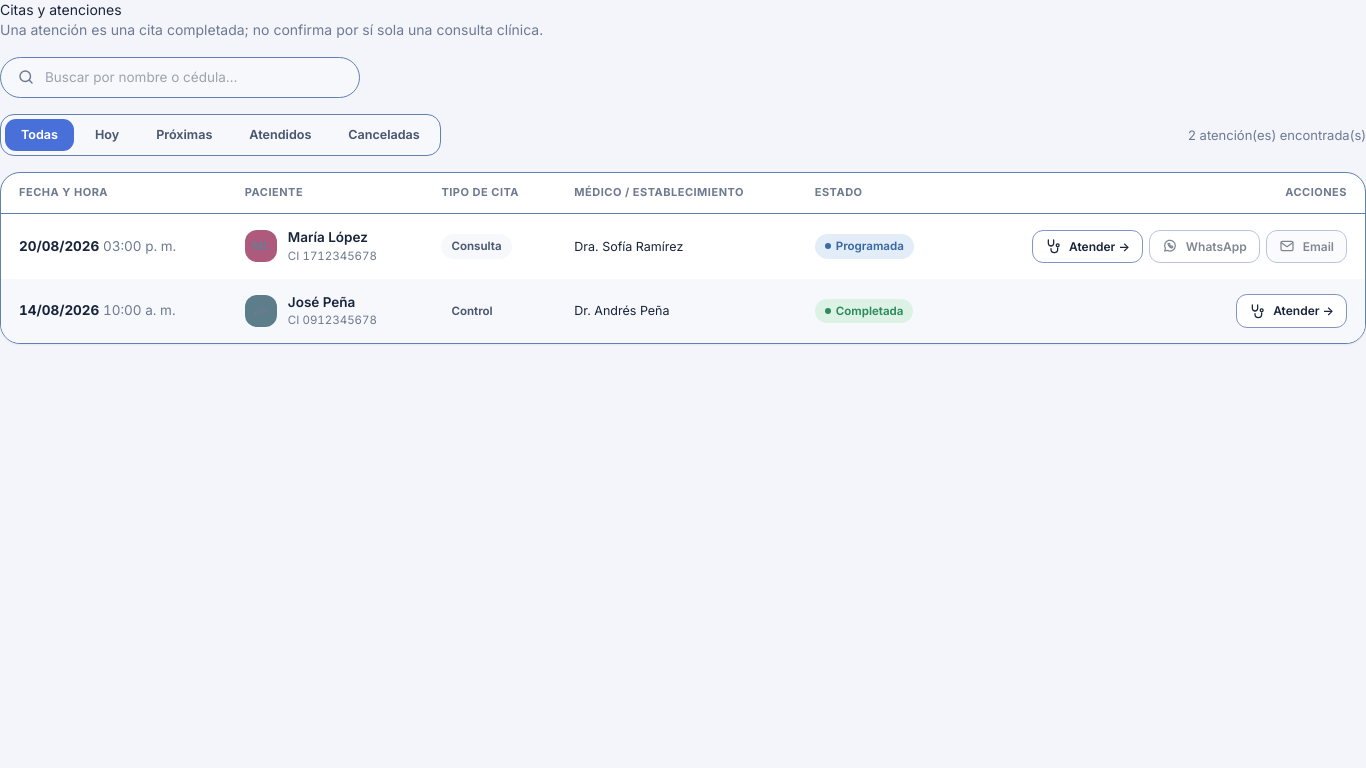
Test: PatientAppointmentsTab search › still opens the edit-cita modal when clicking elsewhere in the row
This screenshot has width=1366, height=768.
Click the text "Dra. Sofía Ramírez" at (629, 246), box x1=574 y1=239 x2=683 y2=254
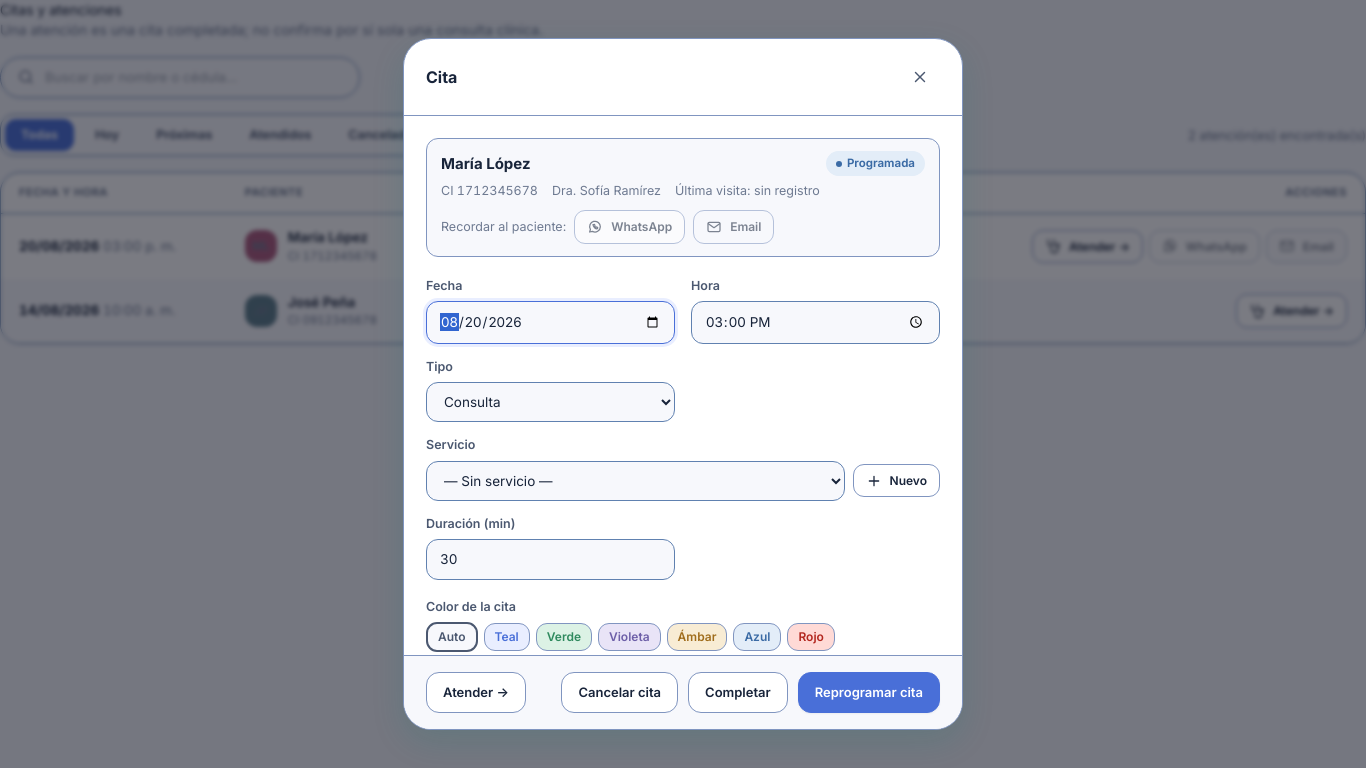
Expected: the heading "Cita" is shown, x1=426 y1=66 x2=457 y2=89
